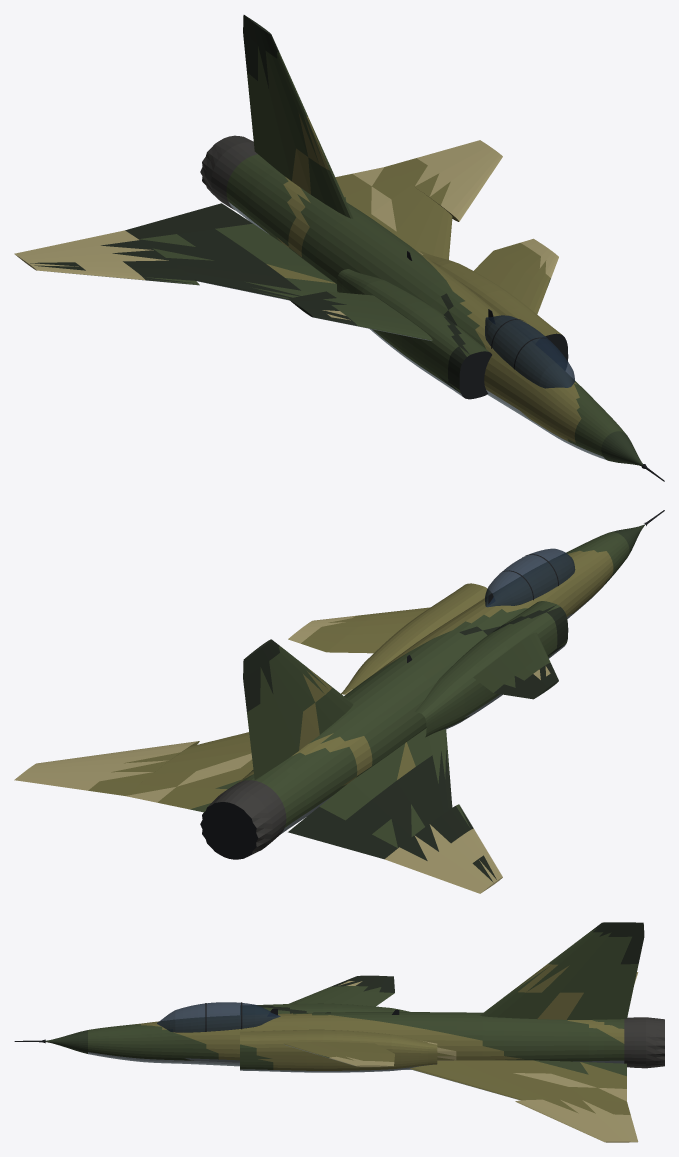
3 renders of one model, top to bottom at view 1: azimuth 30°, elevation 25°; view 2: azimuth 150°, elevation 25°; view 3: azimuth 270°, elevation 25°, orthographic. The views are drawn at different scales.
Visible parts, largest first — view 1: airframe, canopy; view 2: airframe, canopy; view 3: airframe, canopy.
Part boxes in pixels (left/top/right/bottom): airframe: left=14, top=15, right=664, bottom=481; canopy: left=485, top=315, right=574, bottom=388; airframe: left=14, top=510, right=664, bottom=893; canopy: left=485, top=548, right=575, bottom=607; airframe: left=14, top=922, right=664, bottom=1142; canopy: left=157, top=1002, right=280, bottom=1032.
Bounding box in the file's own units: 10.6 × 4.18 × 17.15.
